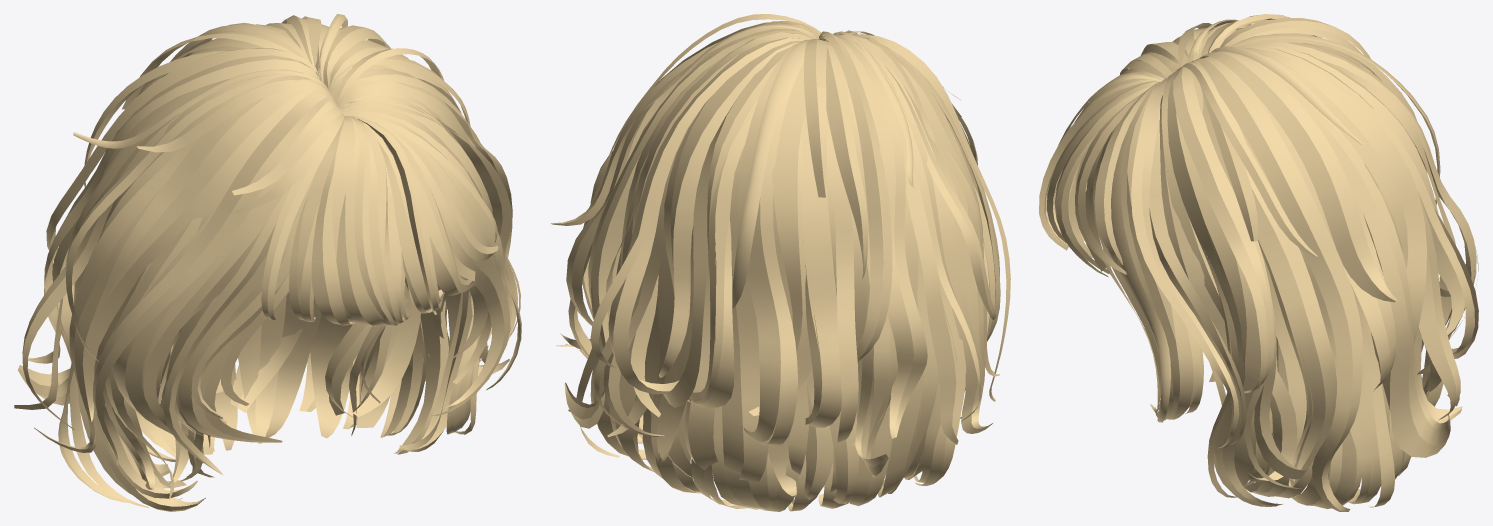
File: bob_nu_3d.glb
3 views of the same model, side by side, from view 1: azimuth 30°, elevation 25°; view 2: azimuth 150°, elevation 25°; view 3: azimuth 270°, elevation 25° (orthographic). The views are drawn at different scales.
Visible parts, largest first — view 1: Object_2; view 2: Object_2; view 3: Object_2.
Part boxes in pixels (left/top/right/bottom): Object_2: left=14, top=14, right=521, bottom=511; Object_2: left=550, top=14, right=1010, bottom=511; Object_2: left=1039, top=14, right=1478, bottom=511.
Size of the model in its own units: 0.2887 by 0.27 by 0.2523.
